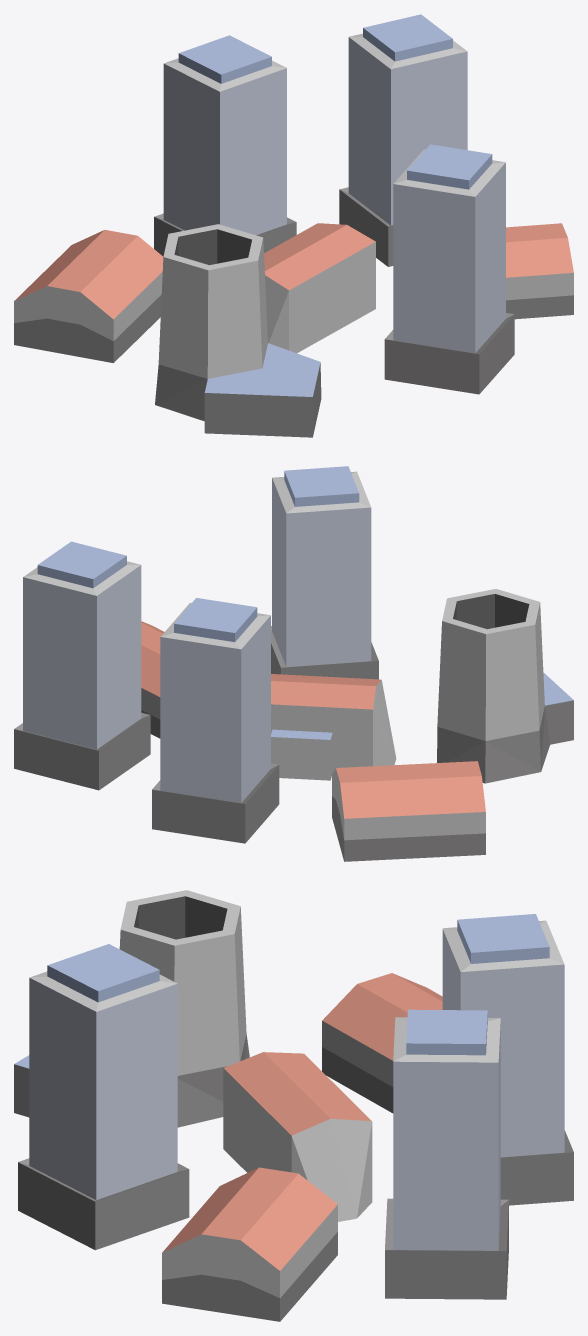
File: beta01_13.dae
3 views of the same model, one above another, from view 1: azimuth 30°, elevation 25°; view 2: azimuth 150°, elevation 25°; view 3: azimuth 270°, elevation 25° (orthographic). The views are drawn at different scales.
Parts seen in each view (by area): view 1: Cube; view 2: Cube; view 3: Cube.
Boxes of the visible parts, left/top/right/bottom form: Cube: left=14, top=14, right=573, bottom=437; Cube: left=14, top=466, right=573, bottom=861; Cube: left=14, top=890, right=573, bottom=1321.
Bounding box in the file's own units: 1.92 × 1.61 × 0.7955.
